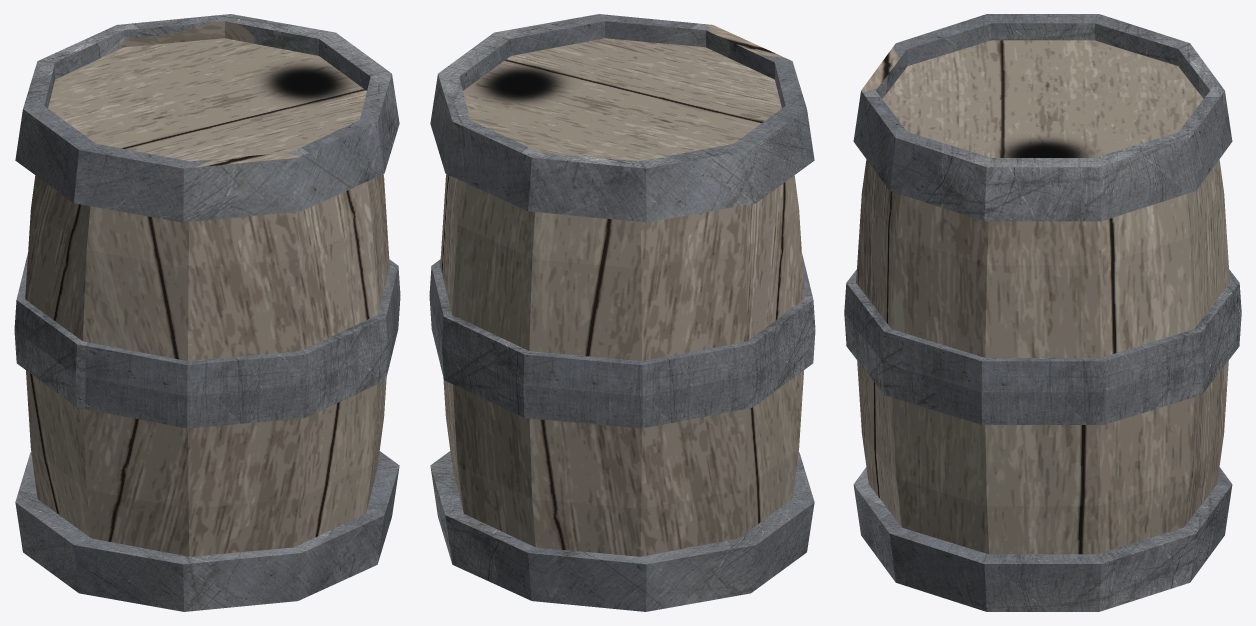
Rendered from barrel.fbx.
The picture shows the model from 3 angles, left to right: view 1: azimuth 30°, elevation 25°; view 2: azimuth 150°, elevation 25°; view 3: azimuth 270°, elevation 25°; orthographic projection.
Visible parts, largest first — view 1: Cylinder; view 2: Cylinder; view 3: Cylinder.
Part boxes in pixels (bbox=[...]): Cylinder: bbox=[14, 14, 400, 611]; Cylinder: bbox=[429, 14, 815, 611]; Cylinder: bbox=[844, 14, 1241, 611].
Bounding box in the file's own units: 2.94 × 3.82 × 3.09.
Materials: 1 (1 with a texture image).
